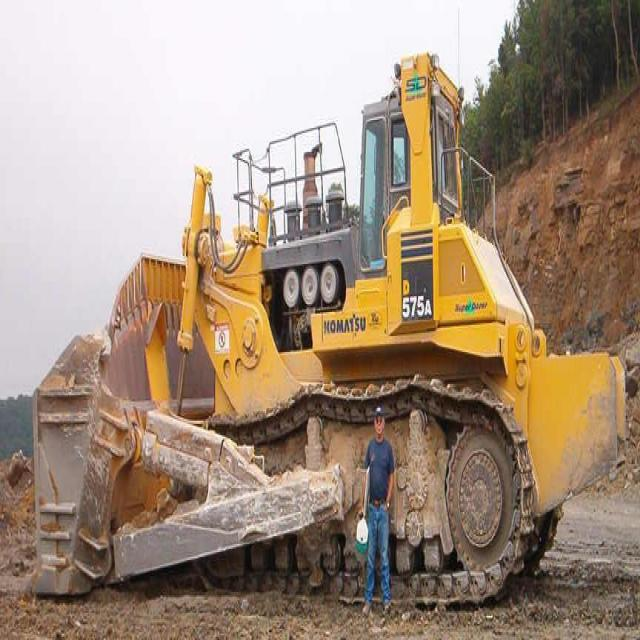Bulldozer: (25, 29, 630, 624)
